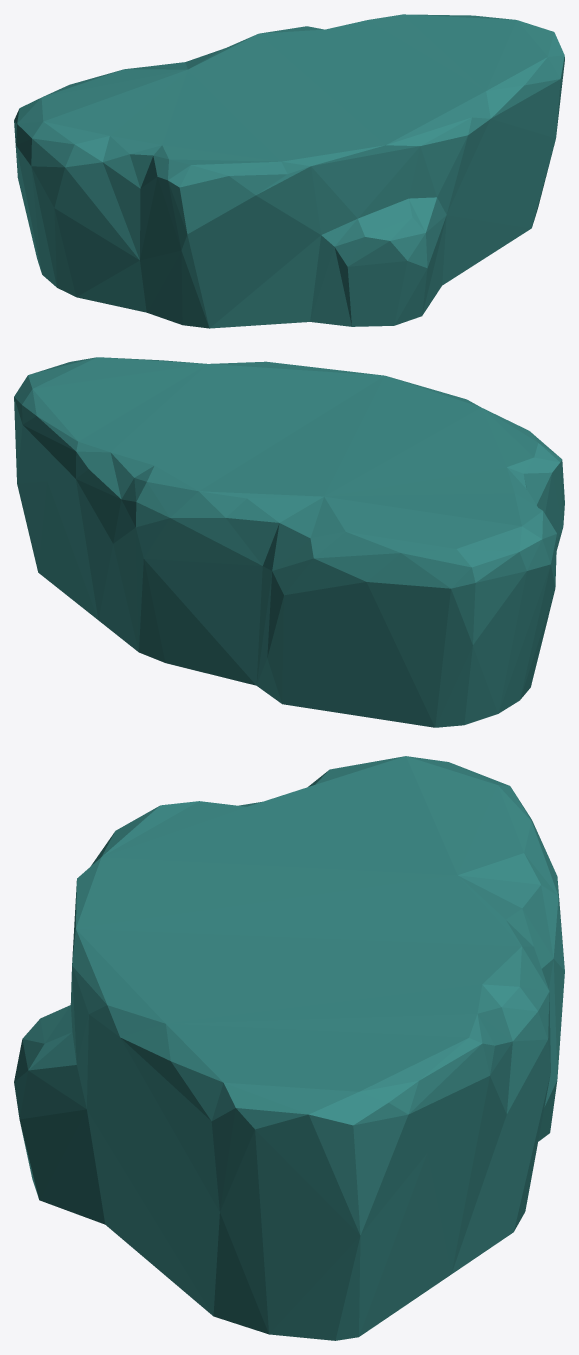
The model's file is SM_Rock_Sea_Medium_Flat_A.fbx.
3 renders of one model, top to bottom at view 1: azimuth 30°, elevation 25°; view 2: azimuth 150°, elevation 25°; view 3: azimuth 270°, elevation 25°, orthographic. The views are drawn at different scales.
Visible parts, largest first — view 1: rock-sea-medium-flat-a; view 2: rock-sea-medium-flat-a; view 3: rock-sea-medium-flat-a.
Boxes of the visible parts, x1,y1,x2,y2 form: rock-sea-medium-flat-a: (14,14,564,328); rock-sea-medium-flat-a: (14,357,564,727); rock-sea-medium-flat-a: (14,756,564,1340).
Size of the model in its own units: 5.34 by 1.74 by 3.39.
